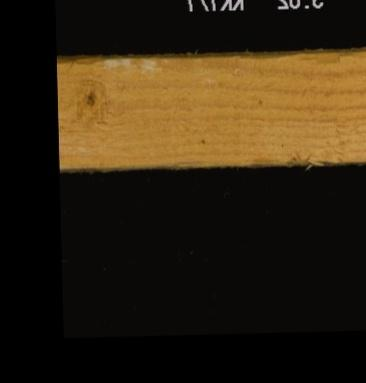sound_knot: (82, 89, 96, 106)
